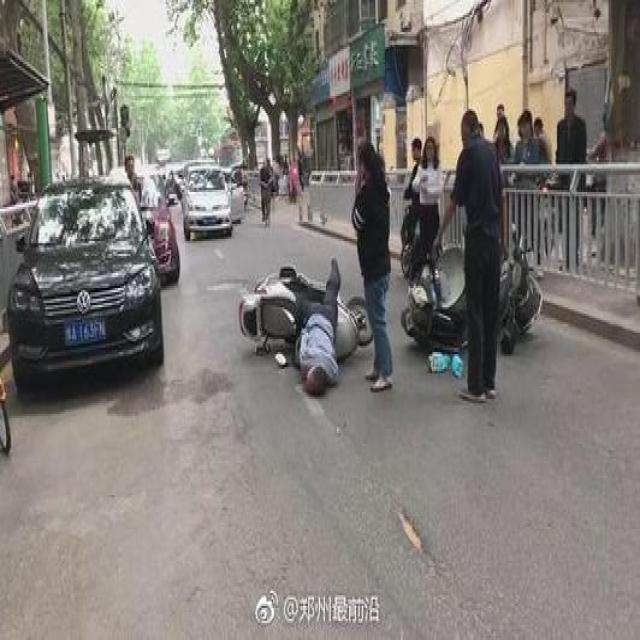10-: (111, 72, 630, 410)
down: (269, 237, 355, 403)
